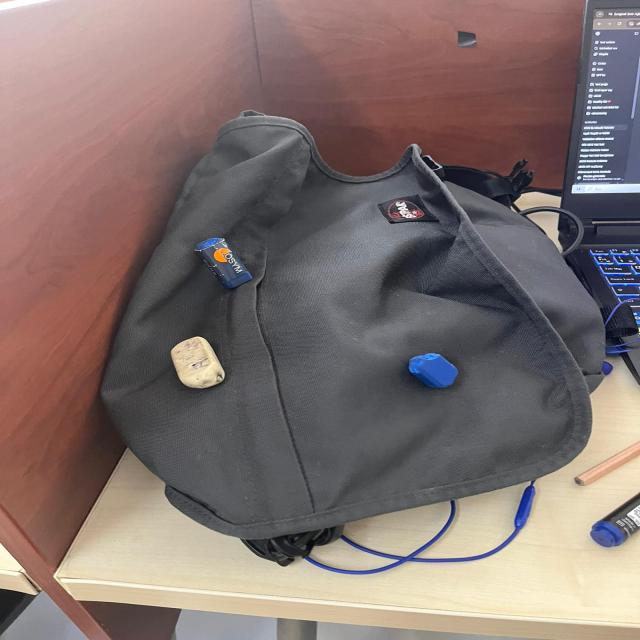eraser: (190, 223, 264, 307), (152, 334, 224, 391), (408, 349, 465, 391)
pencil: (580, 484, 640, 547), (561, 442, 640, 487)
